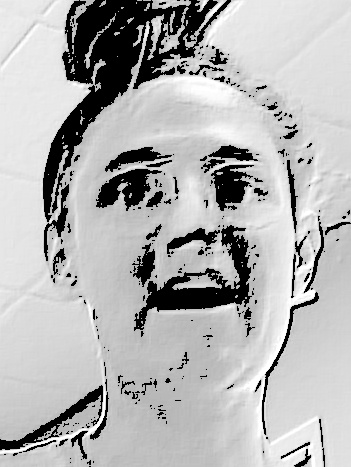nose_M_C: (163, 190, 221, 269)
